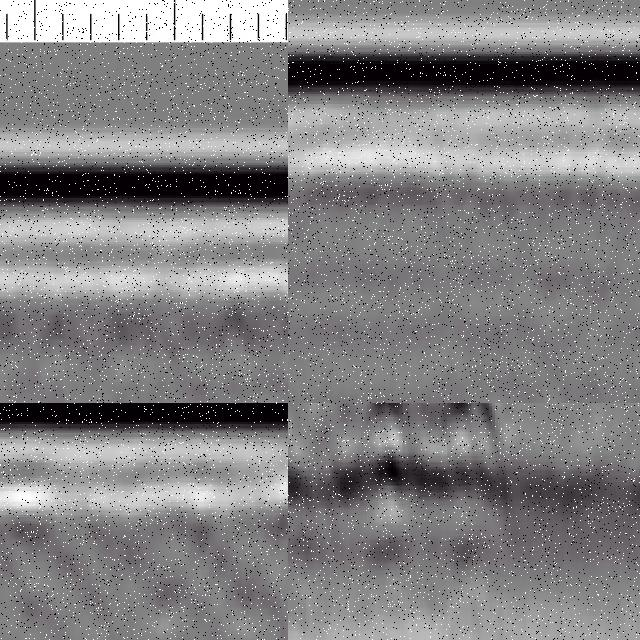loose: (289, 404, 514, 550)
